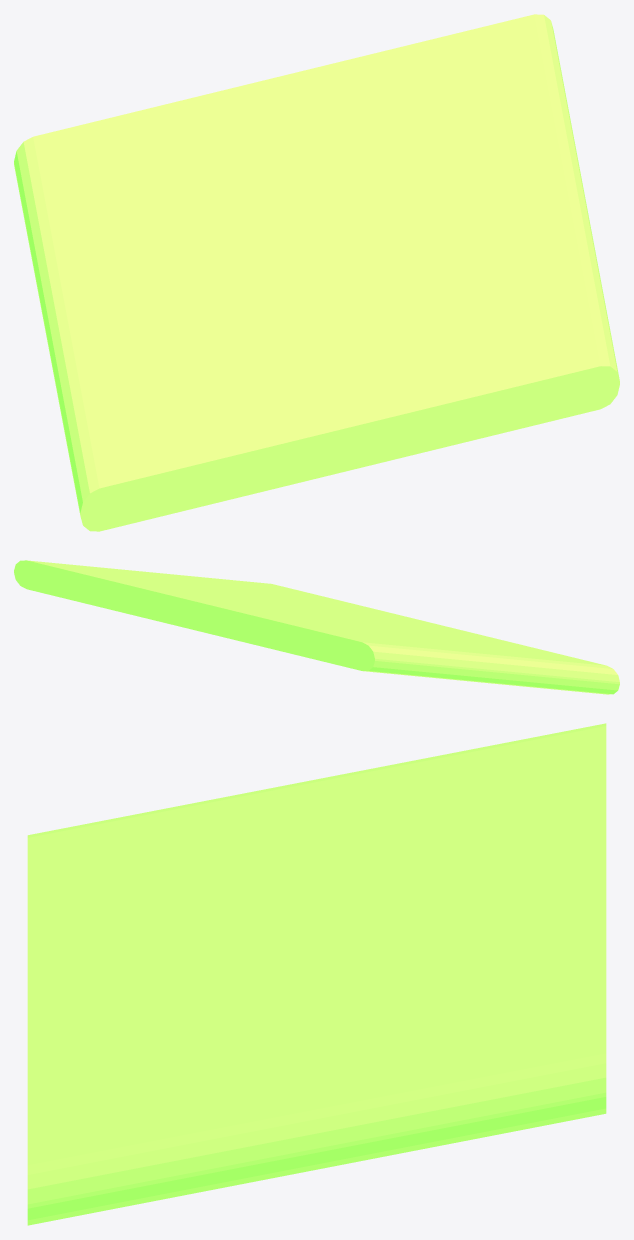
Rendered from Spring_PadHot.gltf.
The picture shows the model from 3 angles, top to bottom: view 1: azimuth 30°, elevation 25°; view 2: azimuth 150°, elevation 25°; view 3: azimuth 270°, elevation 25°; orthographic projection. The views are drawn at different scales.
Visible parts, largest first — view 1: Spring_PadHot_baked; view 2: Spring_PadHot_baked; view 3: Spring_PadHot_baked.
Boxes of the visible parts, x1,y1,x2,y2 form: Spring_PadHot_baked: [14, 14, 619, 531]; Spring_PadHot_baked: [14, 560, 619, 694]; Spring_PadHot_baked: [27, 723, 606, 1225].
Bounding box in the file's own units: 0.92 × 0.255 × 0.5.
